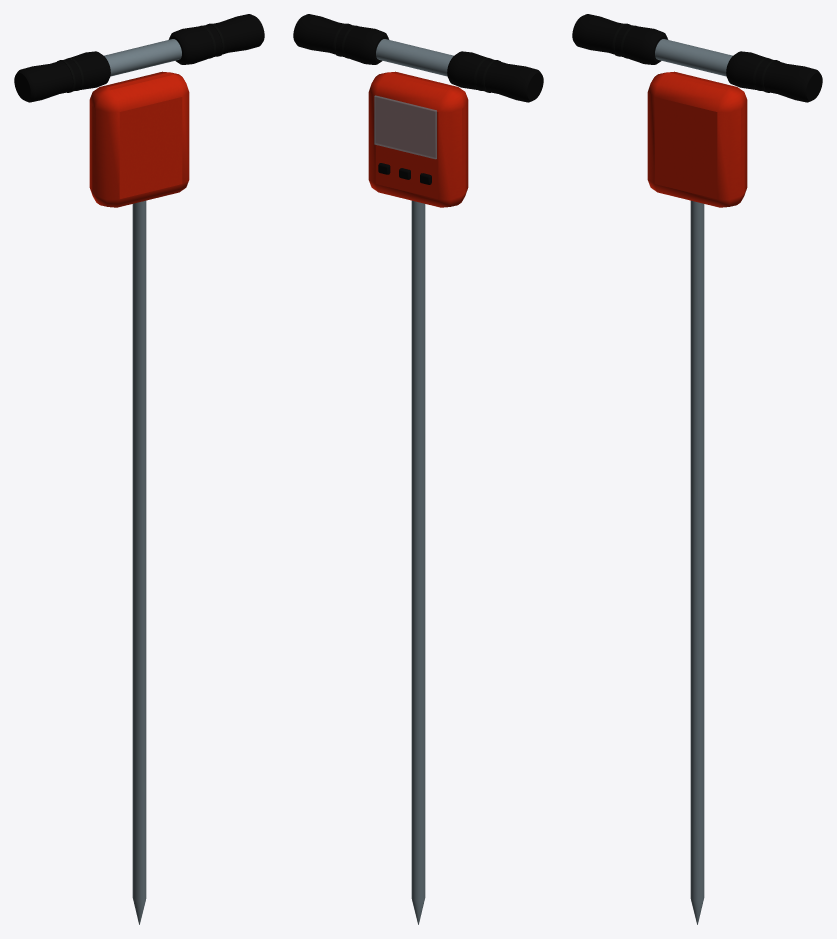
Rendered from SoilProbe.gltf.
3 views of the same model, side by side, from view 1: azimuth 30°, elevation 25°; view 2: azimuth 150°, elevation 25°; view 3: azimuth 330°, elevation 25° (orthographic).
Visible parts, largest first — view 1: SoilProbe__Body; view 2: SoilProbe__Body, SoilProbe__Glass_Display; view 3: SoilProbe__Body.
Part boxes in pixels (left/top/right/bottom): SoilProbe__Body: left=14, top=14, right=264, bottom=924; SoilProbe__Body: left=293, top=14, right=543, bottom=924; SoilProbe__Glass_Display: left=374, top=95, right=436, bottom=159; SoilProbe__Body: left=572, top=14, right=822, bottom=924.
Size of the model in its own units: 0.252 by 0.9086 by 0.0487.
Materials: 2 (1 with a texture image).
